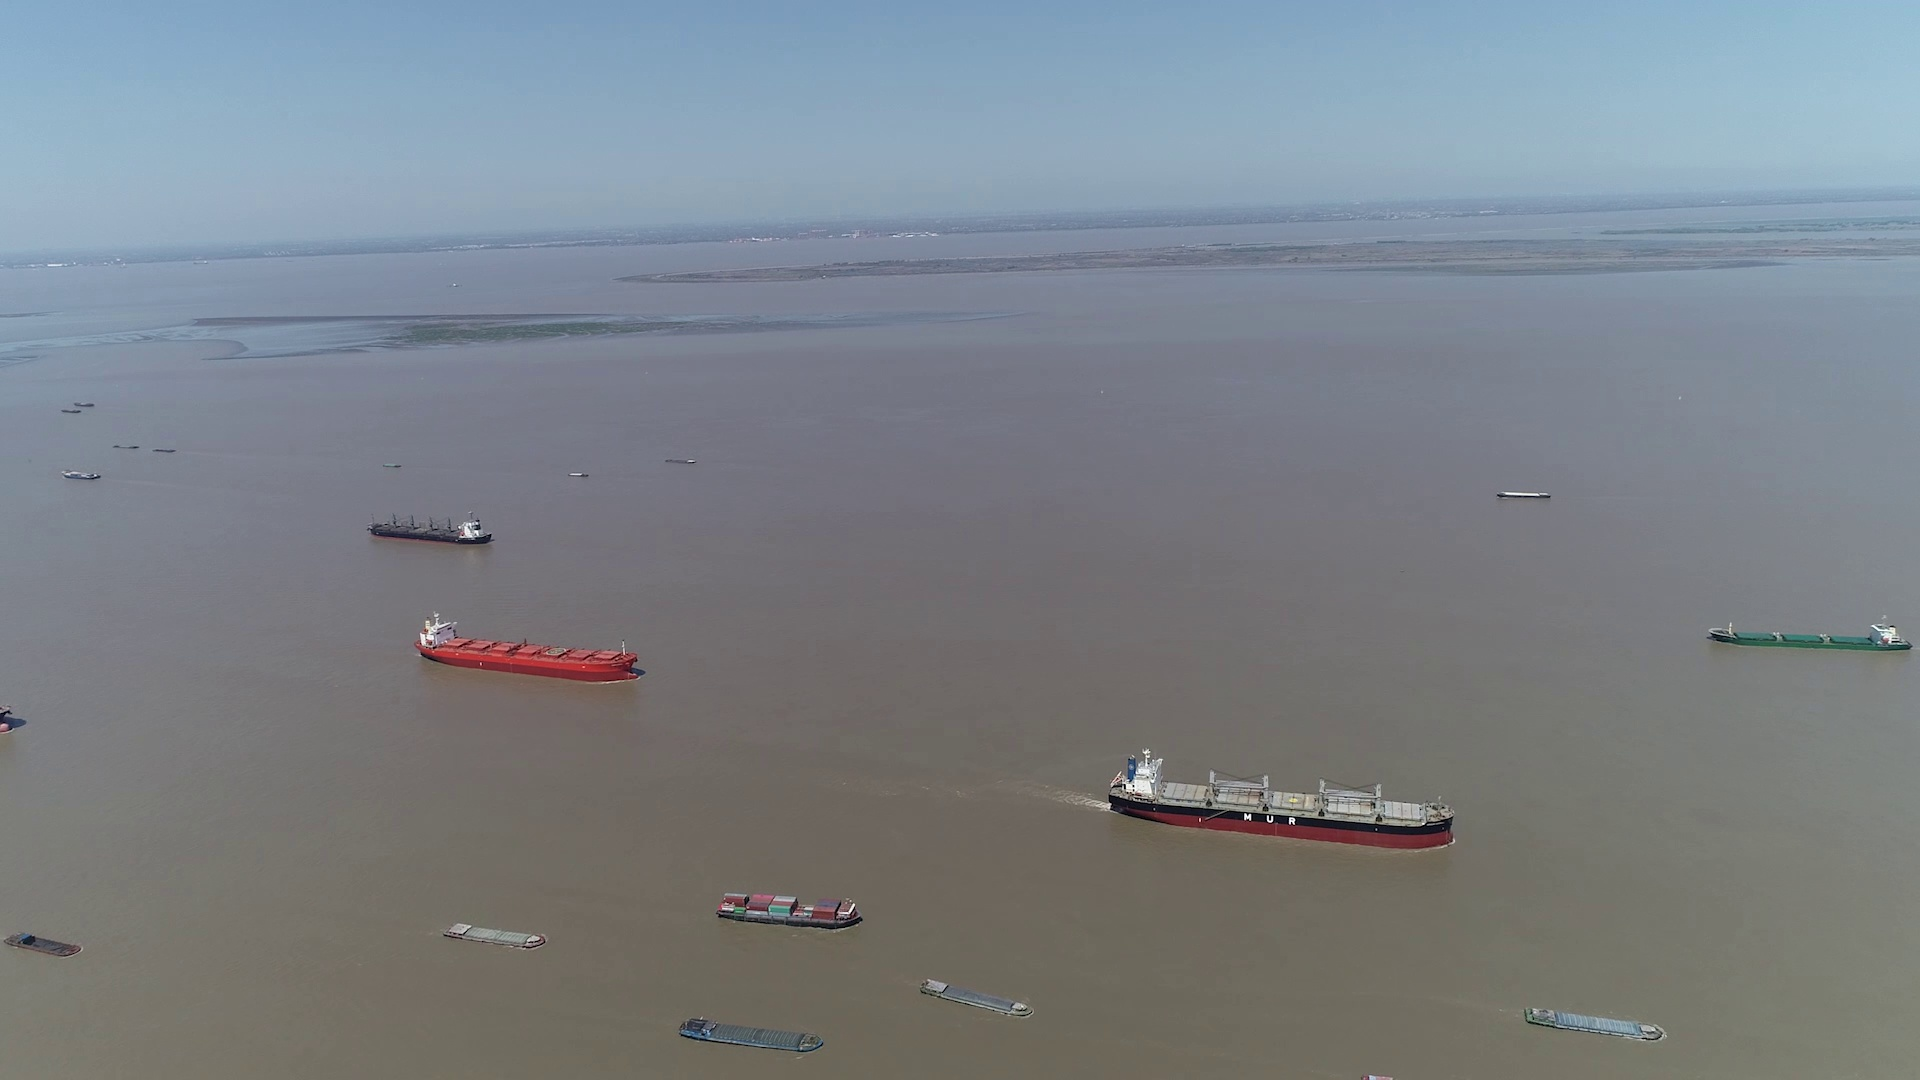ship: (1106, 750, 1461, 849), (413, 613, 640, 680), (1710, 621, 1913, 651), (716, 891, 862, 928), (679, 1018, 823, 1054), (1524, 1006, 1664, 1040), (922, 978, 1033, 1021), (367, 512, 492, 545), (446, 922, 545, 949), (7, 930, 82, 956), (1498, 489, 1553, 498), (61, 468, 100, 480)
